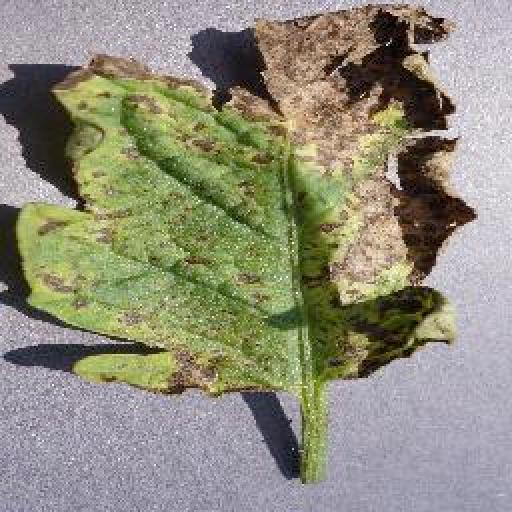disease_tomato: (16, 4, 482, 394)
